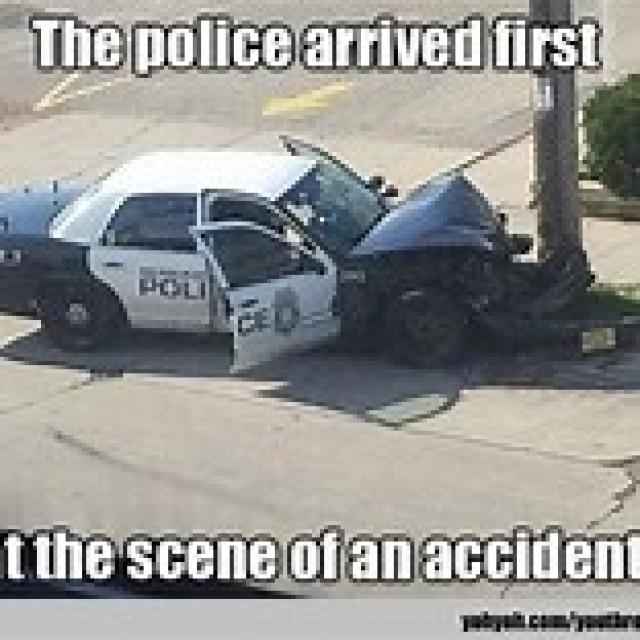Accident: (73, 70, 640, 420)
